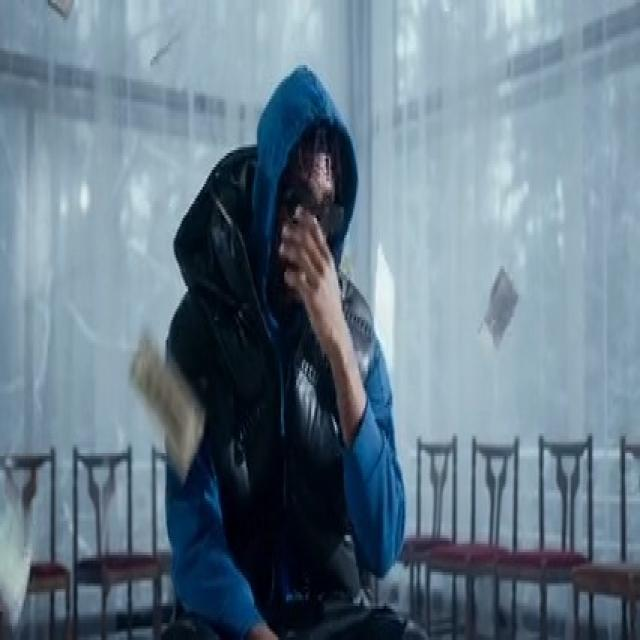Jacket_Wearer: (174, 260, 396, 640)
Person: (159, 49, 412, 640)
